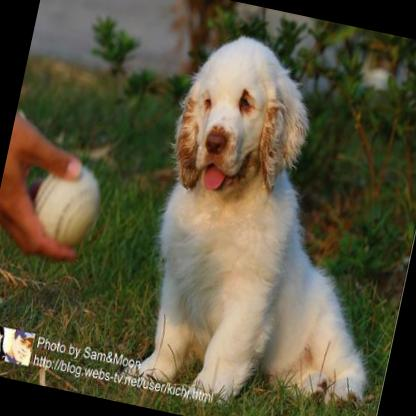clumber: (119, 22, 416, 416)
